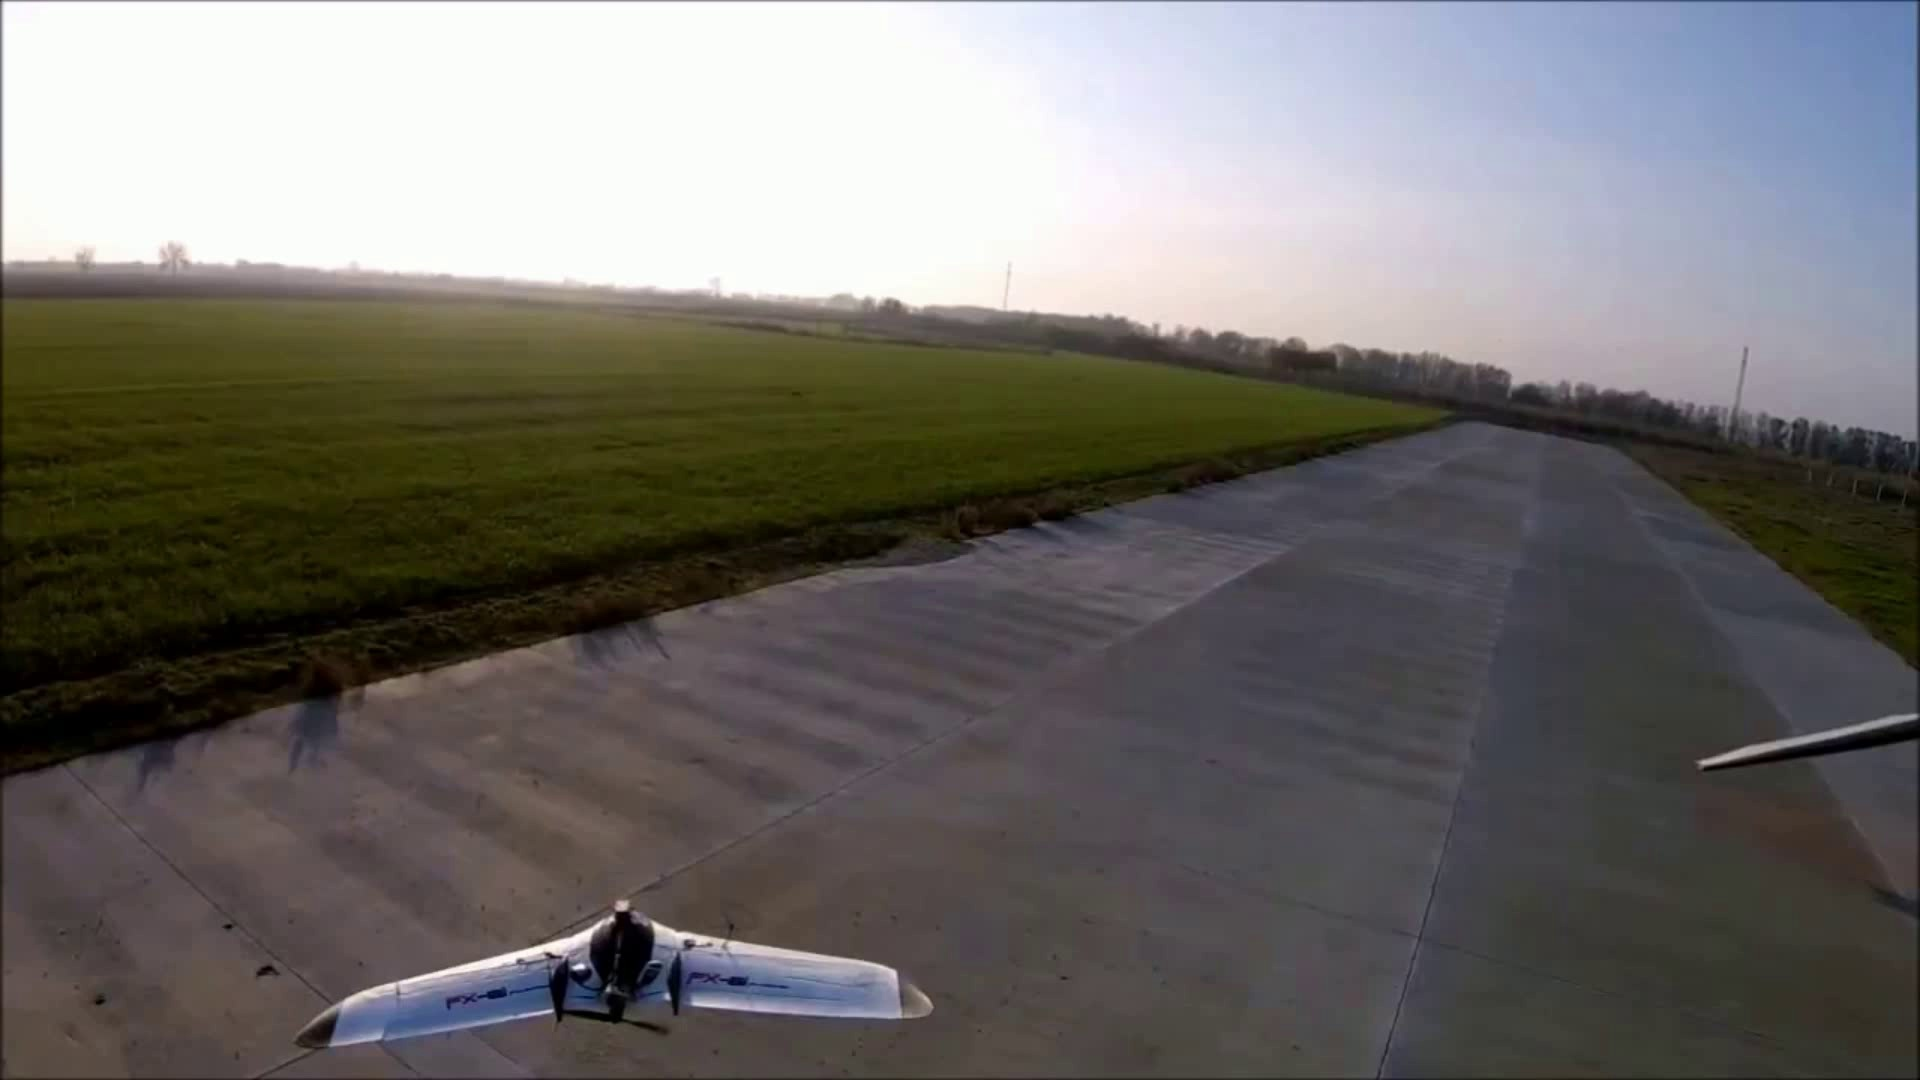airplane: (287, 910, 934, 1049)
